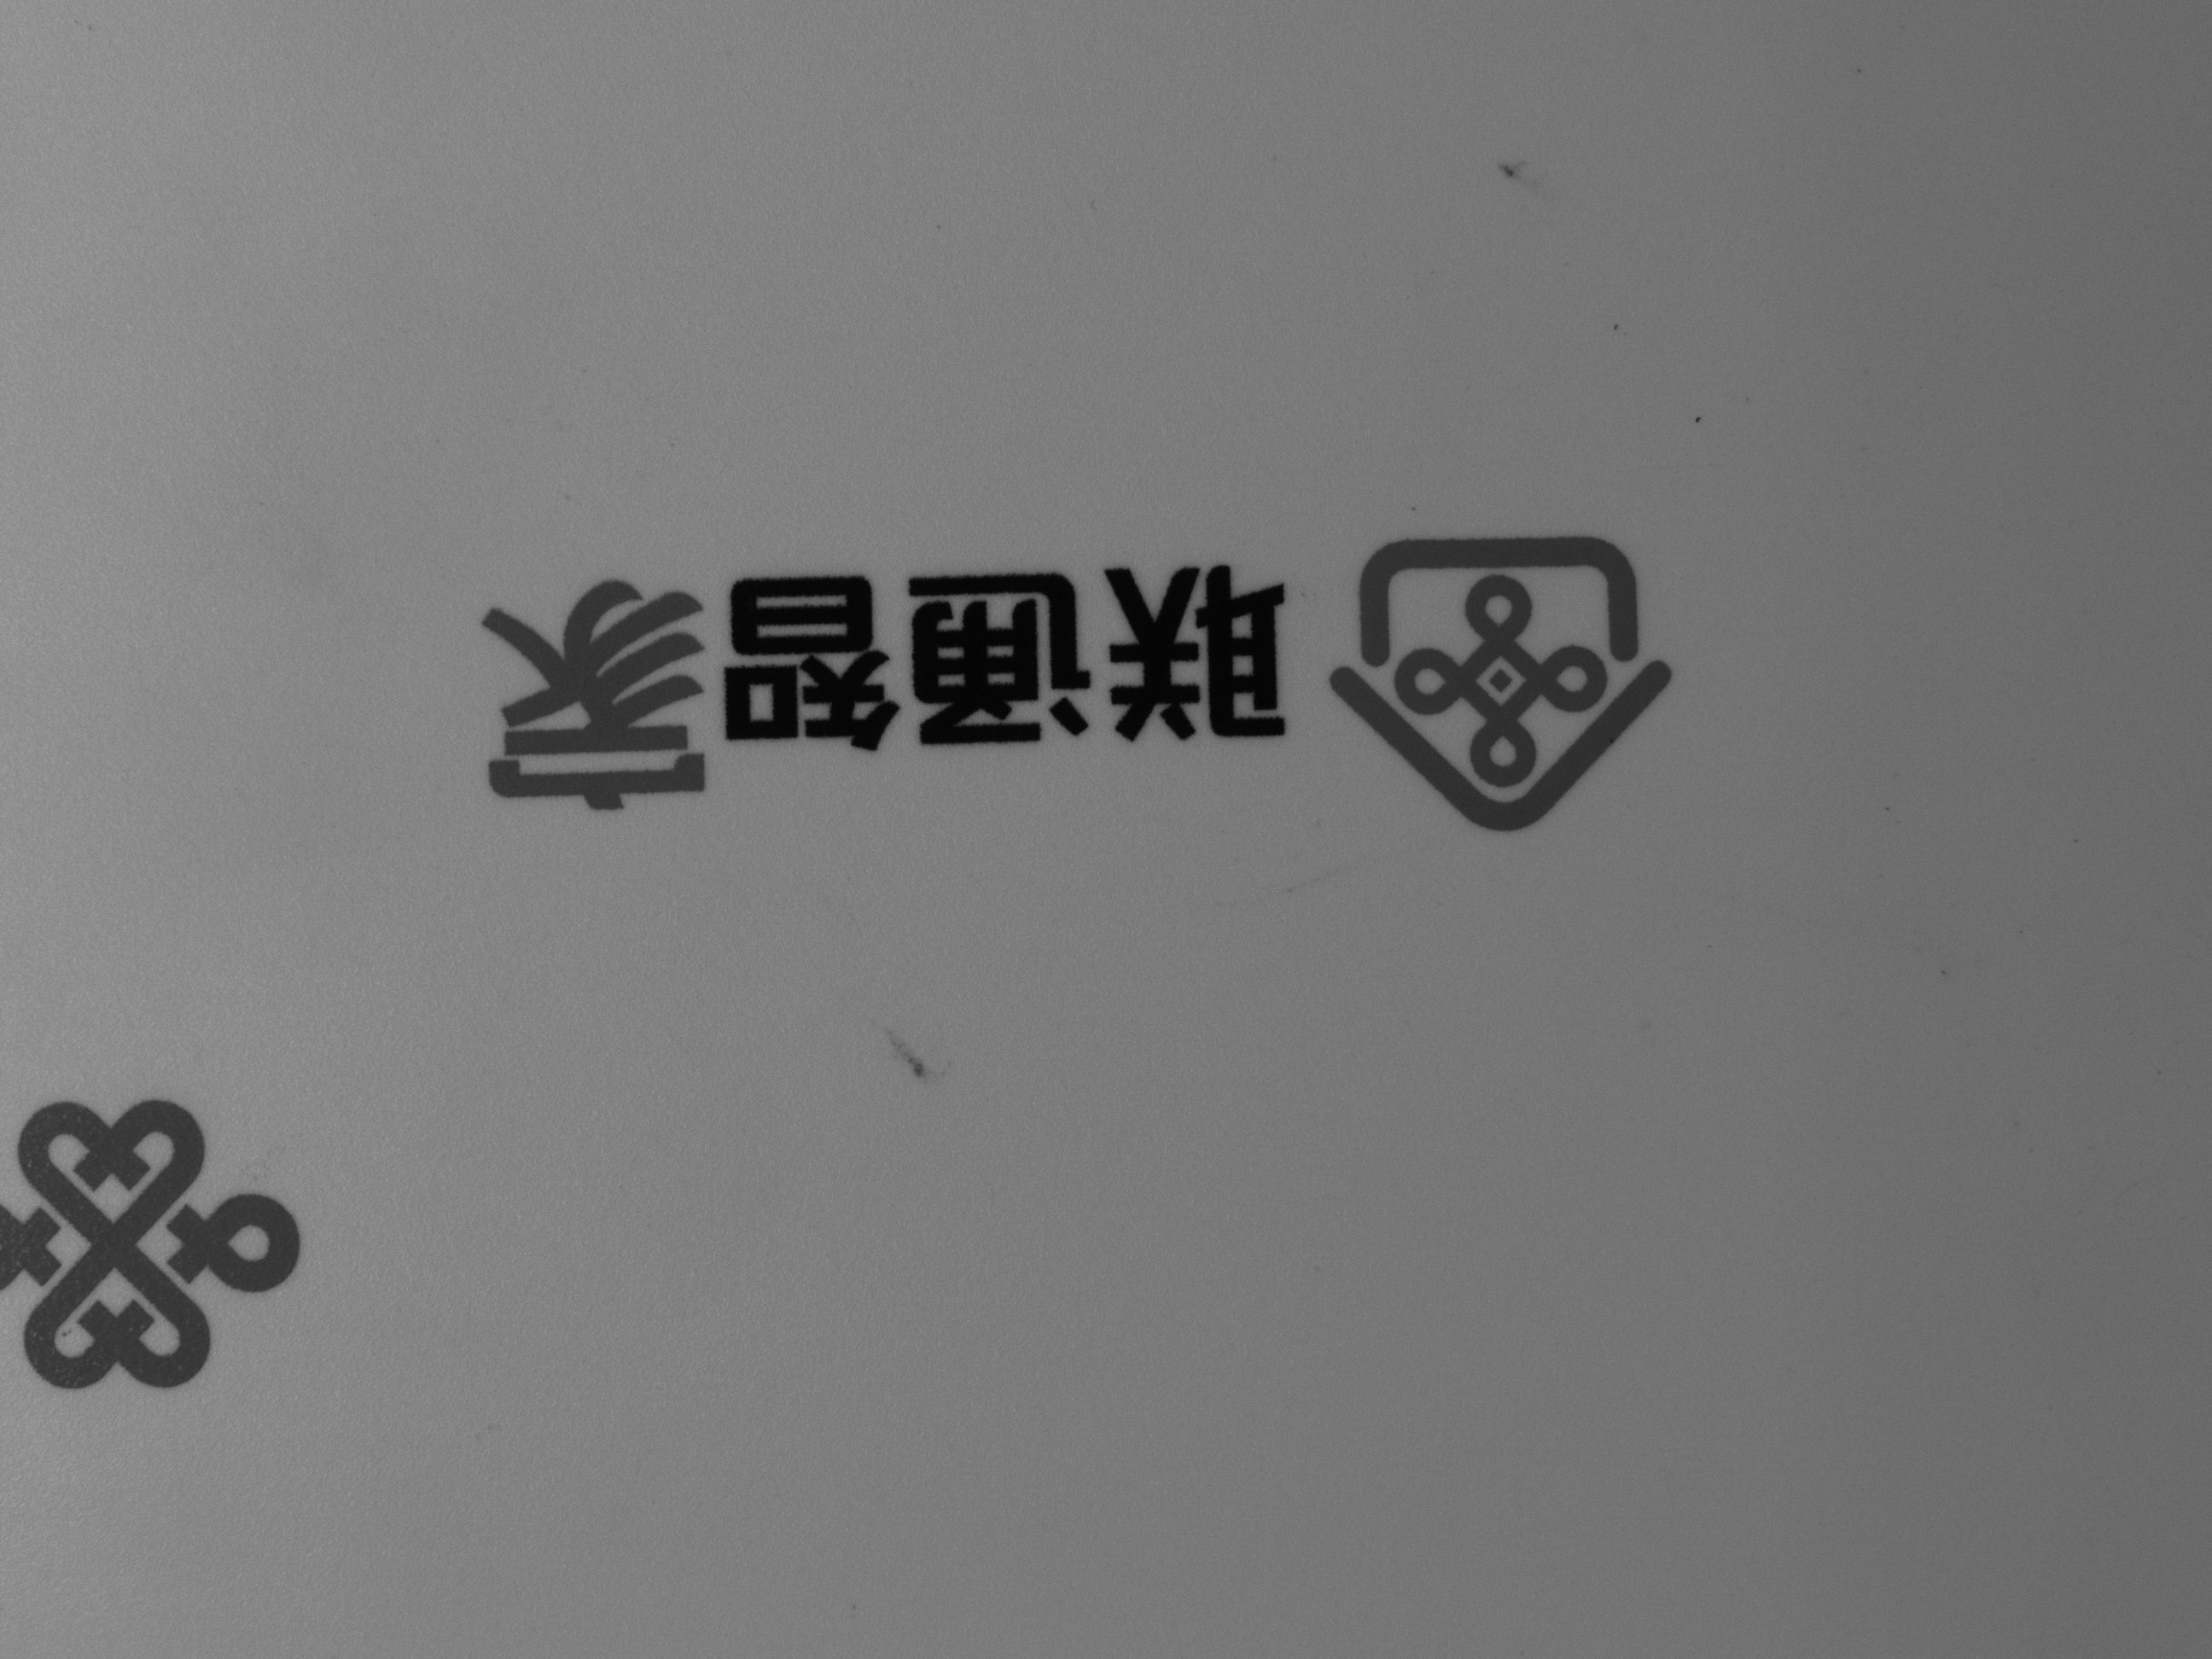BY_F6610Unicome: (425, 481, 1721, 847)
